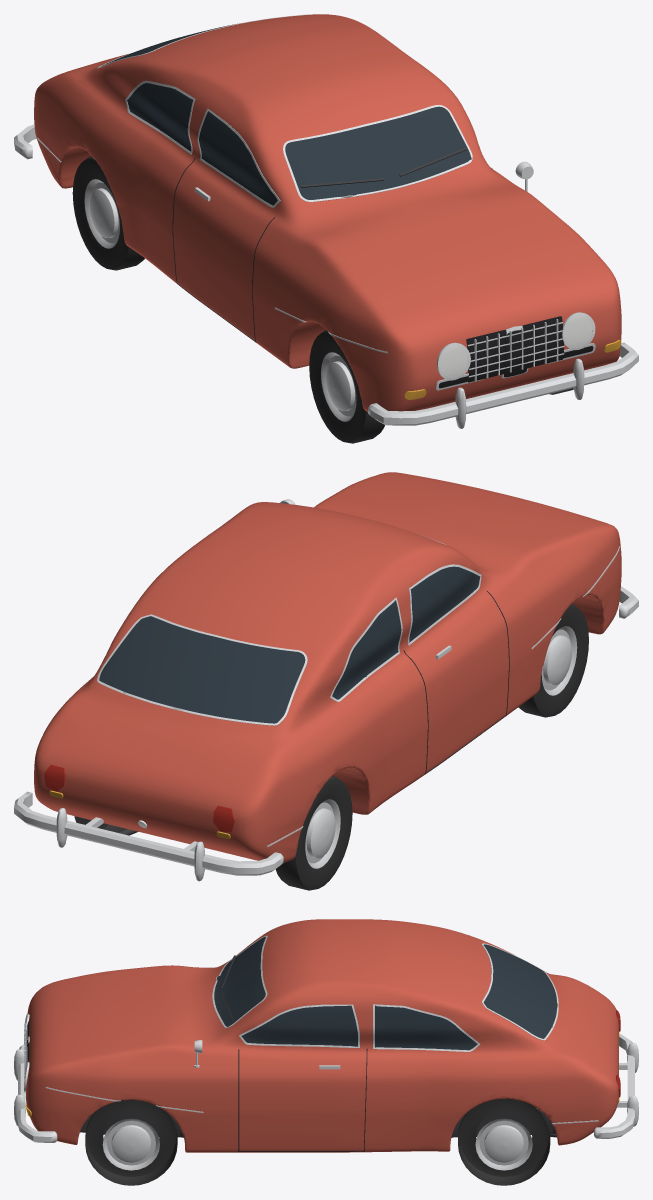
Rendered from saab96.glb.
3 renders of one model, top to bottom at view 1: azimuth 30°, elevation 25°; view 2: azimuth 150°, elevation 25°; view 3: azimuth 270°, elevation 25°, orthographic. The views are drawn at different scales.
Visible parts, largest first — view 1: paint, glass, trim, wheel_fr, wheel_rr, headlights; view 2: paint, glass, trim, wheel_rr, wheel_fr, taillights; view 3: paint, glass, trim, wheel_rl, wheel_fl.
Part boxes in pixels (box(x1,y1,x2,y2)): paint: box(34, 14, 621, 411); glass: box(101, 23, 471, 205); trim: box(14, 14, 638, 428); wheel_fr: box(309, 330, 384, 443); wheel_rr: box(72, 156, 144, 270); headlights: box(440, 315, 592, 377); paint: box(34, 472, 621, 862); glass: box(99, 566, 480, 723); trim: box(14, 535, 638, 881); wheel_rr: box(275, 776, 352, 890); wheel_fr: box(518, 604, 588, 717); taillights: box(44, 764, 234, 832); paint: box(26, 919, 618, 1152); glass: box(214, 937, 557, 1050); trim: box(14, 935, 638, 1151); wheel_rl: box(458, 1098, 550, 1185); wheel_fl: box(85, 1100, 177, 1185).
Size of the model in its own units: 1.58 by 1.47 by 4.19.
